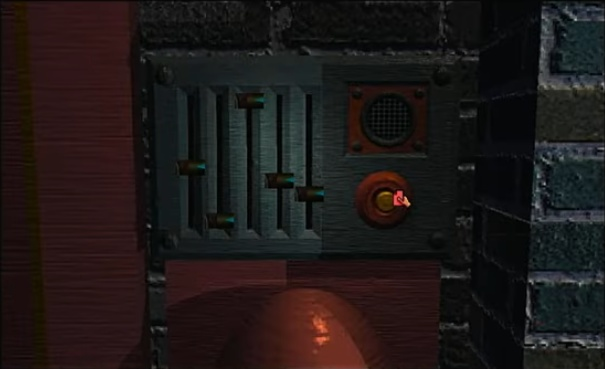Keep: (392, 187, 411, 209)
